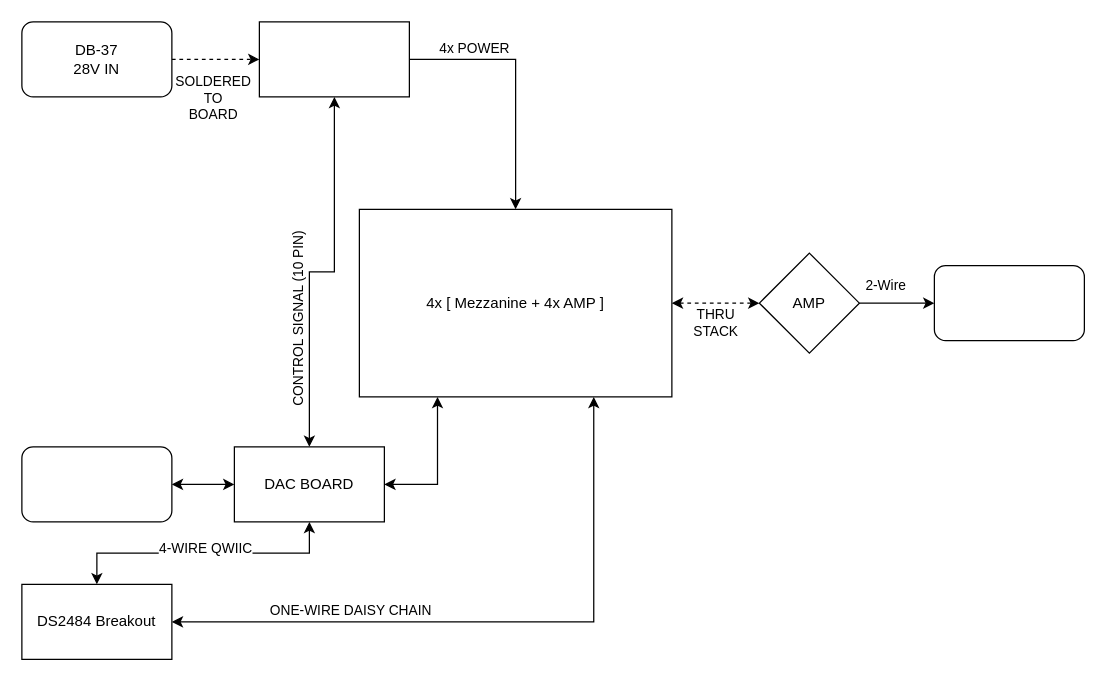
This 1106x681 diagram has some shape labels left out. Here are the shapes that lost their labels. From the top down, the centre of each, then its label:
point 333,59: 28V INRUSH CTRL (DB-37 attached)
point 1008,302: DB-15 x3 Heater Out
point 96,484: DB-9 (USB) CONTROL IN / TELEM OUT
